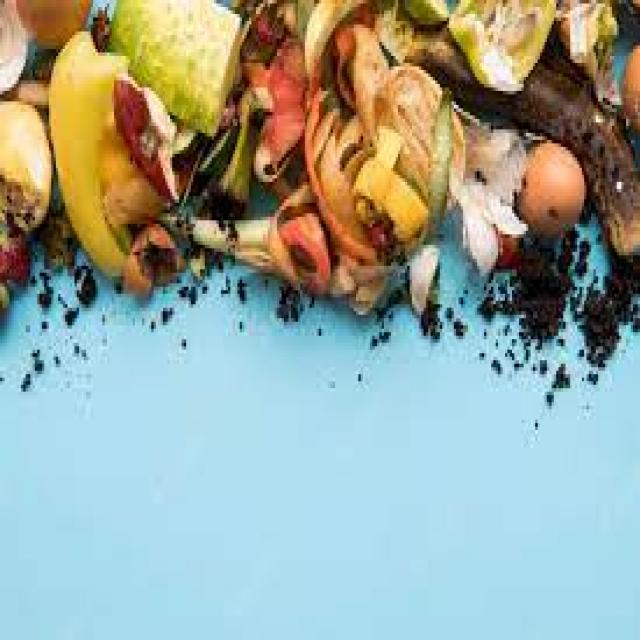Food -Biodegradable-: (0, 0, 640, 319)
